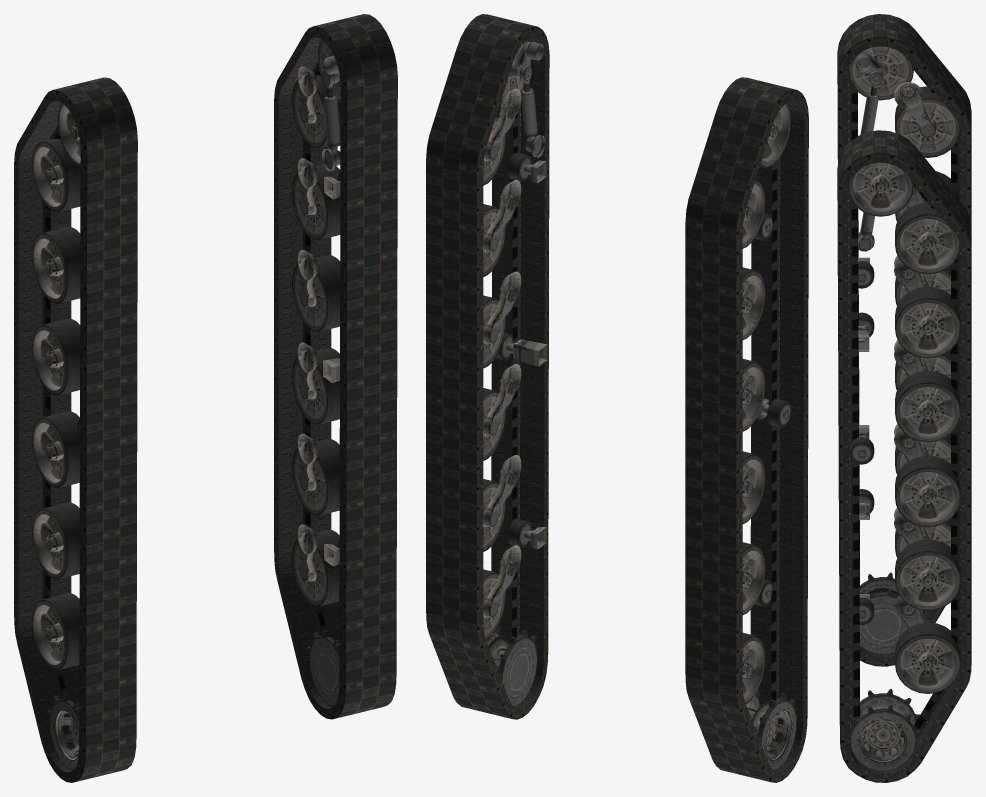
The model's file is Chassis.glb.
3 views of the same model, side by side, from view 1: azimuth 30°, elevation 25°; view 2: azimuth 150°, elevation 25°; view 3: azimuth 270°, elevation 25° (orthographic). The views are drawn at different scales.
Parts seen in each view (by area): view 1: set_2_group_0, set_3_group_0, set_0_group_0, set_1_group_0; view 2: set_2_group_0, set_3_group_0, set_0_group_0, set_1_group_0; view 3: set_0_group_0, set_3_group_0, set_1_group_0, set_2_group_0.
Part boxes in pixels (x1,y1,x2,y2): set_2_group_0: (14, 77, 137, 782); set_3_group_0: (274, 14, 397, 719); set_0_group_0: (292, 39, 340, 706); set_1_group_0: (32, 103, 80, 770); set_2_group_0: (685, 77, 808, 782); set_3_group_0: (426, 14, 549, 719); set_0_group_0: (483, 39, 547, 707); set_1_group_0: (742, 102, 796, 770); set_0_group_0: (848, 162, 961, 771); set_3_group_0: (837, 130, 971, 782); set_1_group_0: (848, 46, 960, 655); set_2_group_0: (837, 14, 971, 666).
Bounding box in the file's own units: 3.25 × 6.82 × 1.32.
Materials: 4 (4 with a texture image).
